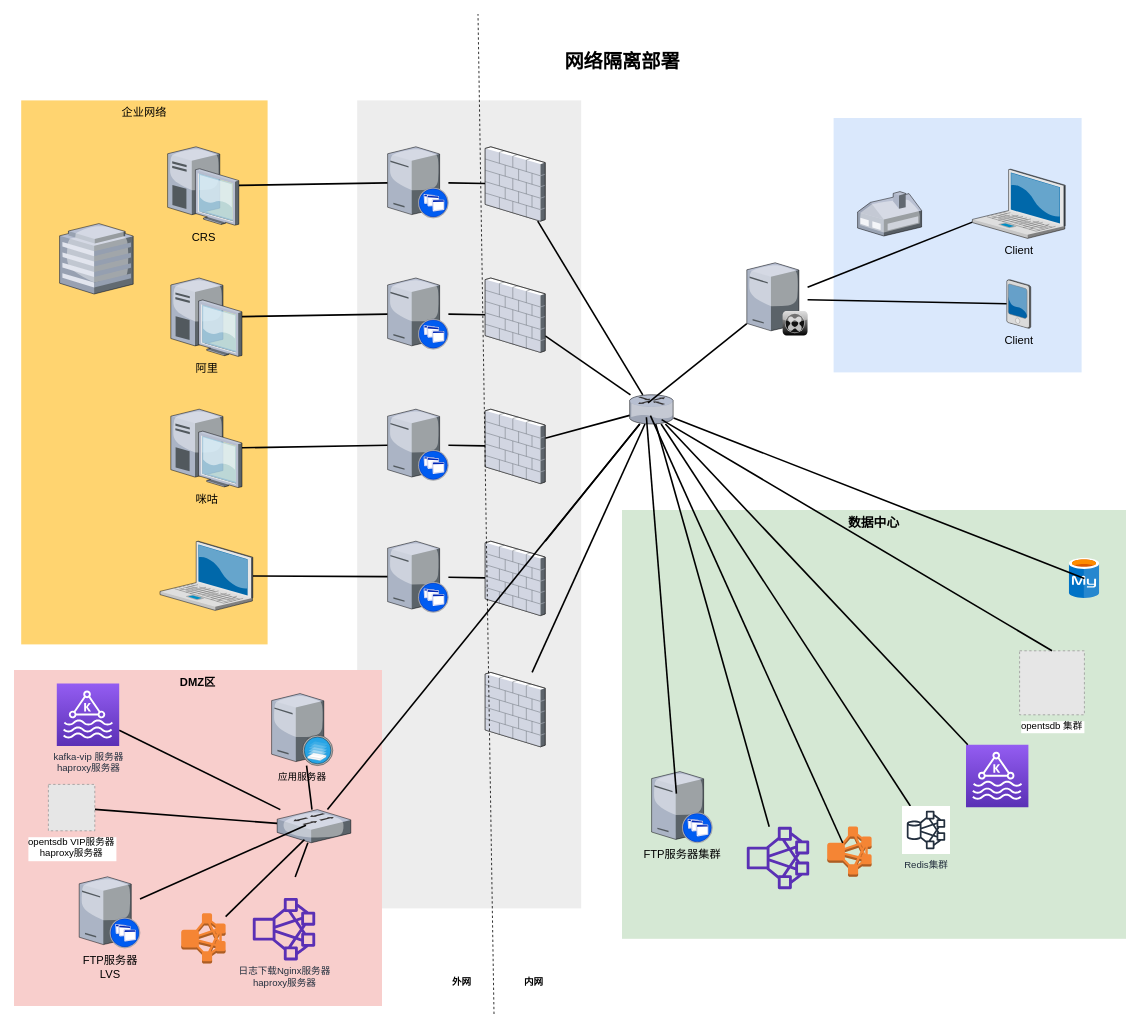
Image size: 1139x1029. Some labels were removed from this diagram. Grey dashed boxes stand in for pictures. Here are the shapes that lost their labels. From the top down, the box of each, then its label:
(833, 118, 1081, 372): 杭研内部用户
(357, 100, 581, 908): firewalls
(160, 541, 252, 610): 网宿
(1069, 558, 1099, 598): mysql 主从
(965, 744, 1028, 807): kafka集群
(746, 826, 809, 889): 实时服务集群
(826, 826, 872, 877): 离线集群
(180, 912, 226, 964): 离线namenode
